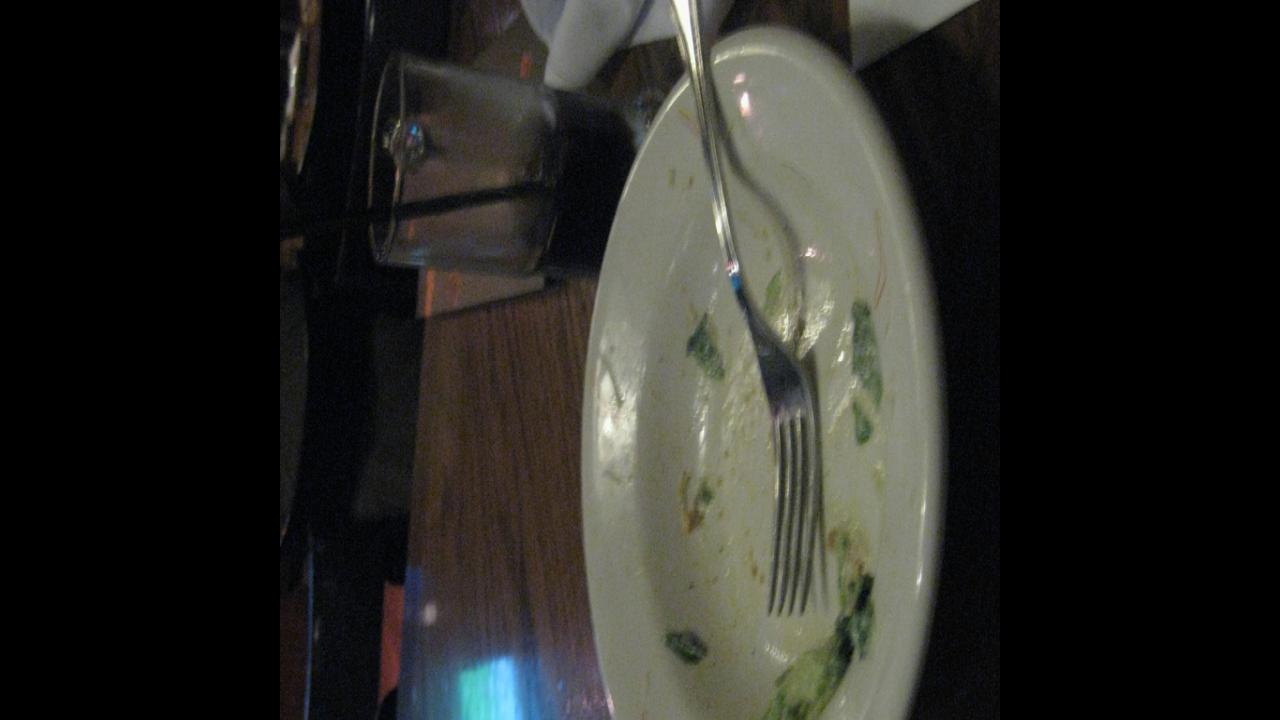fork: (641, 0, 821, 621)
